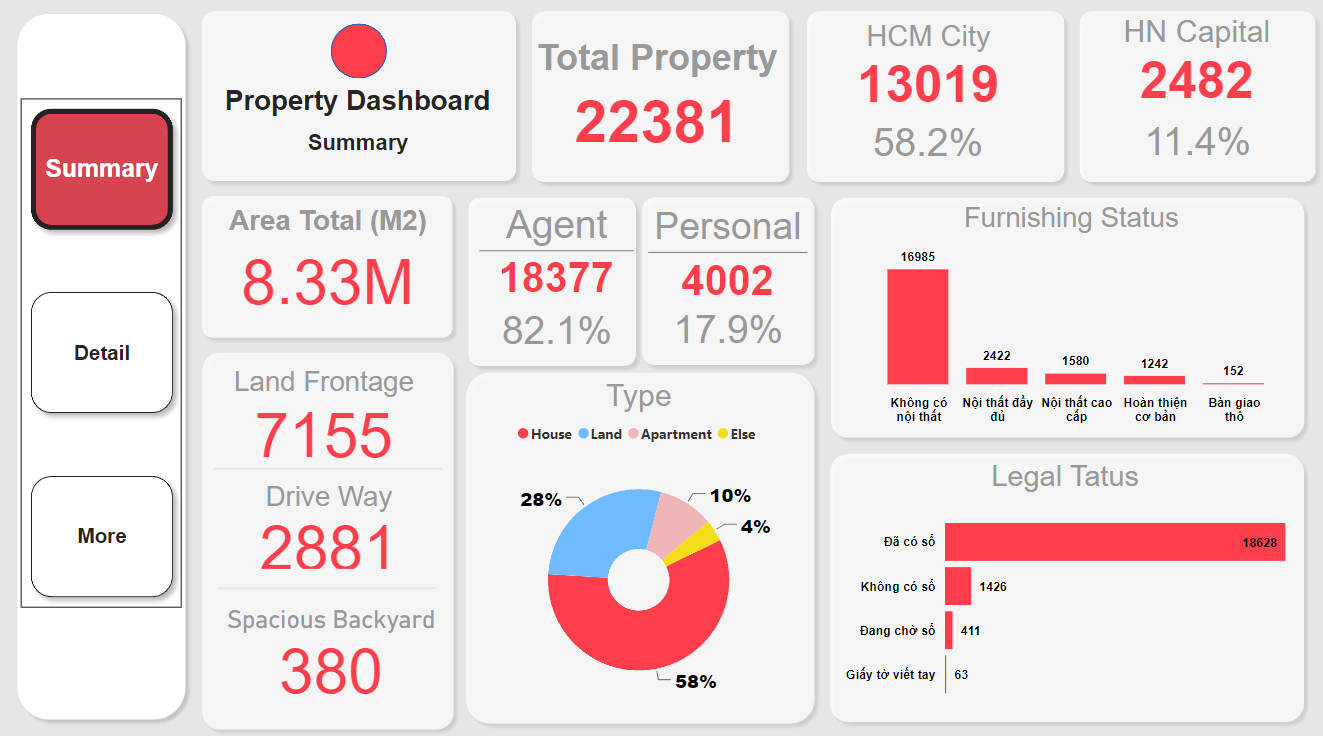

What the dashboard file says about the page in this screenshot:
{"tool":"powerbi","page":{"name":"Summary","canvas":[1280,720],"ordinal":0},"visuals":[{"type":"shape","box":[12.1,14.5,177.3,695.9],"z":0},{"type":"shape","box":[190,12.5,317.5,178.8],"z":1000},{"type":"shape","box":[508.9,12.1,262.9,179.7],"z":2000},{"type":"shape","box":[774.3,12.1,262.9,179.7],"z":3000},{"type":"shape","box":[1037.2,12.1,242.4,179.7],"z":4000},{"type":"shape","box":[190,341.2,257.5,378.8],"z":5000},{"type":"shape","box":[796.2,438.8,472.5,273.8],"z":6000},{"type":"shape","box":[445,360,351.2,353.8],"z":7000},{"type":"shape","box":[796.7,191.7,471.7,246.7],"z":8000},{"type":"textbox","box":[155.6,85.6,384.7,57.9],"z":9000},{"type":"textbox","box":[189.3,129,318.4,53.1],"z":10000},{"type":"shape","box":[322,31.4,54.3,53.1],"z":11000},{"type":"card","title":"Total Property","fields":{"Values":["CountNonNull(gold_factprice.id)"]},"box":[507.1,44.3,258.6,114.3],"z":12000},{"type":"card","title":"HCM City","fields":{"Values":["CountNonNull(gold_factprice.id)"]},"box":[773.8,27.5,248.8,87.5],"z":13000},{"type":"card","title":"HN Capital","fields":{"Values":["CountNonNull(gold_factprice.id)"]},"box":[1059.4,23.3,197.6,87.8],"z":14000},{"type":"pieChart","title":"Type","fields":{"Category":["gold_dimproperty.type"],"Y":["CountNonNull(gold_factprice.id)"]},"box":[465,373.8,307.5,326.2],"z":15000},{"type":"card","title":"Land Frontage","fields":{"Values":["CountNonNull(gold_factprice.id)"]},"box":[212.5,361.2,206.2,95],"z":16000},{"type":"card","title":"Drive Way","fields":{"Values":["CountNonNull(gold_factprice.id)"]},"box":[202.5,472.5,235,90],"z":17000},{"type":"card","title":"Spacious Backyard","fields":{"Values":["CountNonNull(gold_factprice.id)"]},"box":[173.8,592.5,297.5,91.2],"z":18000},{"type":"shape","box":[212.5,532.5,211.2,86.2],"z":19000},{"type":"shape","box":[208.8,438.8,221.2,43.8],"z":20000},{"type":"clusteredBarChart","title":"Legal Tatus","fields":{"Category":["gold_dimproperty.legal_status"],"Y":["CountNonNull(gold_factprice.id)"]},"box":[812.9,452.3,435.4,248.4],"z":21000},{"type":"clusteredColumnChart","title":"Furnishing Status","fields":{"Category":["gold_dimproperty.furnishing_status"],"Y":["CountNonNull(gold_factprice.id)"]},"box":[812.9,204.3,447.1,222.9],"z":22000},{"type":"shape","box":[447.5,191.2,176.2,177.5],"z":23000},{"type":"card","fields":{"Values":["Allmeasures.% numberofHCM"]},"box":[815,103.8,166.2,81.2],"z":24000},{"type":"card","fields":{"Values":["Allmeasures.% numberofHN"]},"box":[1068.6,105.7,180,75.7],"z":25000},{"type":"shape","box":[615,191.2,181.2,176.2],"z":26000},{"type":"card","title":"Agent","fields":{"Values":["CountNonNull(gold_factprice.id)"]},"box":[465,203.8,148.8,92.5],"z":27000},{"type":"card","fields":{"Values":["Allmeasures.% numberofAgent"]},"box":[465.5,291.9,149.5,68.7],"z":28000},{"type":"card","fields":{"Values":["Allmeasures.% numberofPersonal"]},"box":[628.3,290.7,154.4,69.9],"z":29000},{"type":"card","title":"Personal","fields":{"Values":["CountNonNull(gold_factprice.id)"]},"box":[628.8,206.2,153.8,93.8],"z":30000},{"type":"shape","box":[190,190,256.2,151.2],"z":31000},{"type":"card","title":"Area Total (M2)","fields":{"Values":["Sum(gold_factprice.area_m2)"]},"box":[208.8,206.2,221.2,110],"z":32000},{"type":"pageNavigator","box":[22.9,103.7,155.6,490.9],"z":33000}]}

Visuals, with their boxes in screenshot pixels (x1, y1, x2, y2), scaled from the page's 1280x720 canvas onto the 1323x736 screenshot:
shape: pyautogui.locateOnScreen(13, 15, 196, 726)
shape: pyautogui.locateOnScreen(196, 13, 525, 196)
shape: pyautogui.locateOnScreen(526, 12, 798, 196)
shape: pyautogui.locateOnScreen(800, 12, 1072, 196)
shape: pyautogui.locateOnScreen(1072, 12, 1322, 196)
shape: pyautogui.locateOnScreen(196, 349, 463, 735)
shape: pyautogui.locateOnScreen(823, 449, 1311, 728)
shape: pyautogui.locateOnScreen(460, 368, 823, 730)
shape: pyautogui.locateOnScreen(823, 196, 1311, 448)
textbox: pyautogui.locateOnScreen(161, 88, 558, 147)
textbox: pyautogui.locateOnScreen(196, 132, 525, 186)
shape: pyautogui.locateOnScreen(333, 32, 389, 86)
"Total Property" card: pyautogui.locateOnScreen(524, 45, 791, 162)
"HCM City" card: pyautogui.locateOnScreen(800, 28, 1057, 118)
"HN Capital" card: pyautogui.locateOnScreen(1095, 24, 1299, 114)
"Type" pieChart: pyautogui.locateOnScreen(481, 382, 798, 716)
"Land Frontage" card: pyautogui.locateOnScreen(220, 369, 433, 466)
"Drive Way" card: pyautogui.locateOnScreen(209, 483, 452, 575)
"Spacious Backyard" card: pyautogui.locateOnScreen(180, 606, 487, 699)
shape: pyautogui.locateOnScreen(220, 544, 438, 632)
shape: pyautogui.locateOnScreen(216, 449, 444, 493)
"Legal Tatus" clusteredBarChart: pyautogui.locateOnScreen(840, 462, 1290, 716)
"Furnishing Status" clusteredColumnChart: pyautogui.locateOnScreen(840, 209, 1302, 437)
shape: pyautogui.locateOnScreen(463, 195, 645, 377)
card - Allmeasures.% numberofHCM: pyautogui.locateOnScreen(842, 106, 1014, 189)
card - Allmeasures.% numberofHN: pyautogui.locateOnScreen(1104, 108, 1291, 185)
shape: pyautogui.locateOnScreen(636, 195, 823, 376)
"Agent" card: pyautogui.locateOnScreen(481, 208, 634, 303)
card - Allmeasures.% numberofAgent: pyautogui.locateOnScreen(481, 298, 636, 369)
card - Allmeasures.% numberofPersonal: pyautogui.locateOnScreen(649, 297, 809, 369)
"Personal" card: pyautogui.locateOnScreen(650, 211, 809, 307)
shape: pyautogui.locateOnScreen(196, 194, 461, 349)
"Area Total (M2)" card: pyautogui.locateOnScreen(216, 211, 444, 323)
pageNavigator: pyautogui.locateOnScreen(24, 106, 184, 608)
